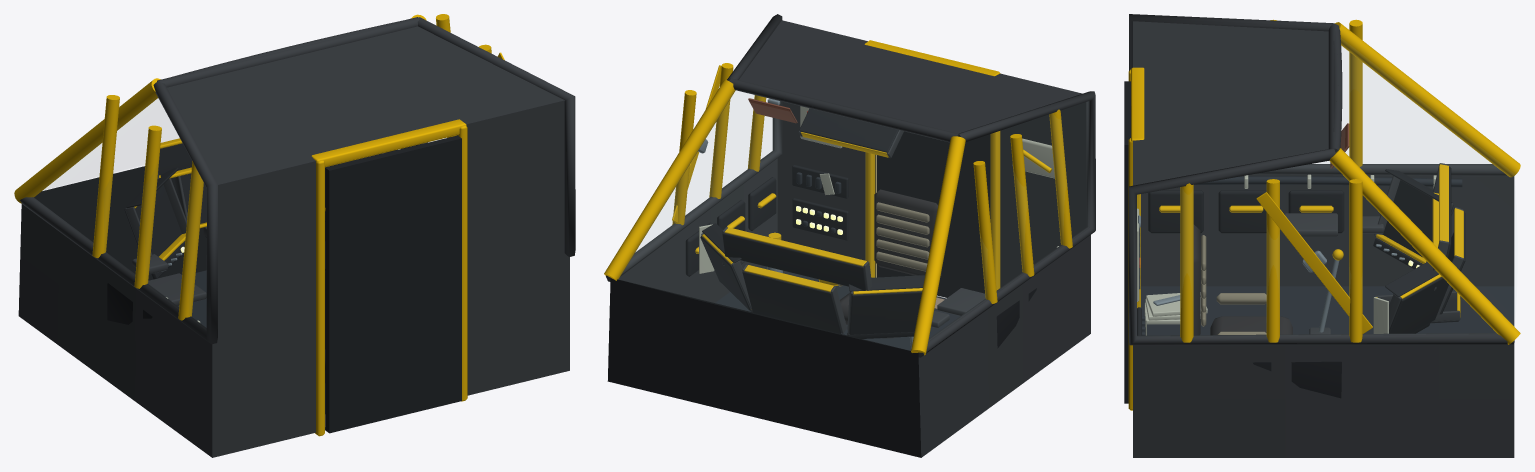
The model's file is dromedary.glb.
3 renders of one model, left to right at view 1: azimuth 30°, elevation 25°; view 2: azimuth 150°, elevation 25°; view 3: azimuth 270°, elevation 25°, orthographic. The views are drawn at different scales.
Visible parts, largest first — view 1: Aft bulkhead - Frame, door, Roof - Frame, Forward shell - Frame, Forward shell - Trim, Aft bulkhead - Trim, Forward shell - Panel, Instrument housings - Panel, Accessory mounts - Frame, Instrument housings - Frame, Ship fittings - Panel, Deck - Rubber (+1 smaller); view 2: Forward shell - Panel, Forward shell - Frame, Roof - Frame, Aft bulkhead - Frame, Forward shell - Trim, Instrument housings - Panel, door, Aft bulkhead - Trim, Ship fittings - Panel, Pilot chair - Leather, Instrument housings - Trim, Ship fittings - Upholstery (+8 smaller); view 3: Forward shell - Frame, Roof - Frame, Forward shell - Trim, Deck - Rubber, Ship fittings - Panel, Instrument housings - Panel, Instrument housings - Trim, Wear and repairs - Trim, Pilot chair - Leather, Aft bulkhead - Trim, door, Wear and repairs - Rubber (+8 smaller).
Part boxes in pixels (bbox=[...]): Aft bulkhead - Frame: bbox=[212, 100, 569, 457]; door: bbox=[325, 135, 461, 433]; Roof - Frame: bbox=[157, 17, 564, 184]; Forward shell - Frame: bbox=[18, 17, 575, 457]; Forward shell - Trim: bbox=[14, 14, 491, 320]; Aft bulkhead - Trim: bbox=[311, 119, 467, 436]; Forward shell - Panel: bbox=[34, 166, 325, 280]; Instrument housings - Panel: bbox=[124, 143, 380, 279]; Accessory mounts - Frame: bbox=[132, 254, 206, 305]; Instrument housings - Frame: bbox=[125, 153, 384, 256]; Ship fittings - Panel: bbox=[107, 283, 152, 324]; Deck - Rubber: bbox=[178, 241, 325, 429]; Forward shell - Panel: bbox=[607, 278, 921, 457]; Forward shell - Frame: bbox=[606, 14, 1095, 457]; Roof - Frame: bbox=[729, 20, 1082, 142]; Aft bulkhead - Frame: bbox=[777, 101, 1086, 287]; Forward shell - Trim: bbox=[604, 63, 1072, 355]; Instrument housings - Panel: bbox=[700, 108, 925, 338]; door: bbox=[876, 131, 990, 297]; Aft bulkhead - Trim: bbox=[864, 40, 1000, 290]; Ship fittings - Panel: bbox=[685, 177, 1036, 348]; Pilot chair - Leather: bbox=[840, 189, 941, 324]; Instrument housings - Trim: bbox=[702, 132, 922, 294]; Ship fittings - Upholstery: bbox=[876, 202, 929, 271]; Forward shell - Frame: bbox=[1129, 14, 1514, 457]; Roof - Frame: bbox=[1133, 21, 1340, 185]; Forward shell - Trim: bbox=[1180, 19, 1520, 344]; Deck - Rubber: bbox=[1141, 286, 1514, 335]; Ship fittings - Panel: bbox=[1148, 190, 1344, 398]; Instrument housings - Panel: bbox=[1373, 166, 1465, 333]; Instrument housings - Trim: bbox=[1376, 164, 1463, 317]; Wear and repairs - Trim: bbox=[1256, 192, 1372, 333]; Pilot chair - Leather: bbox=[1193, 224, 1292, 335]; Aft bulkhead - Trim: bbox=[1128, 67, 1144, 410]; door: bbox=[1124, 81, 1130, 403]; Wear and repairs - Rubber: bbox=[1142, 176, 1462, 335].
Size of the model in its own units: 2.33 by 1.78 by 2.2.
